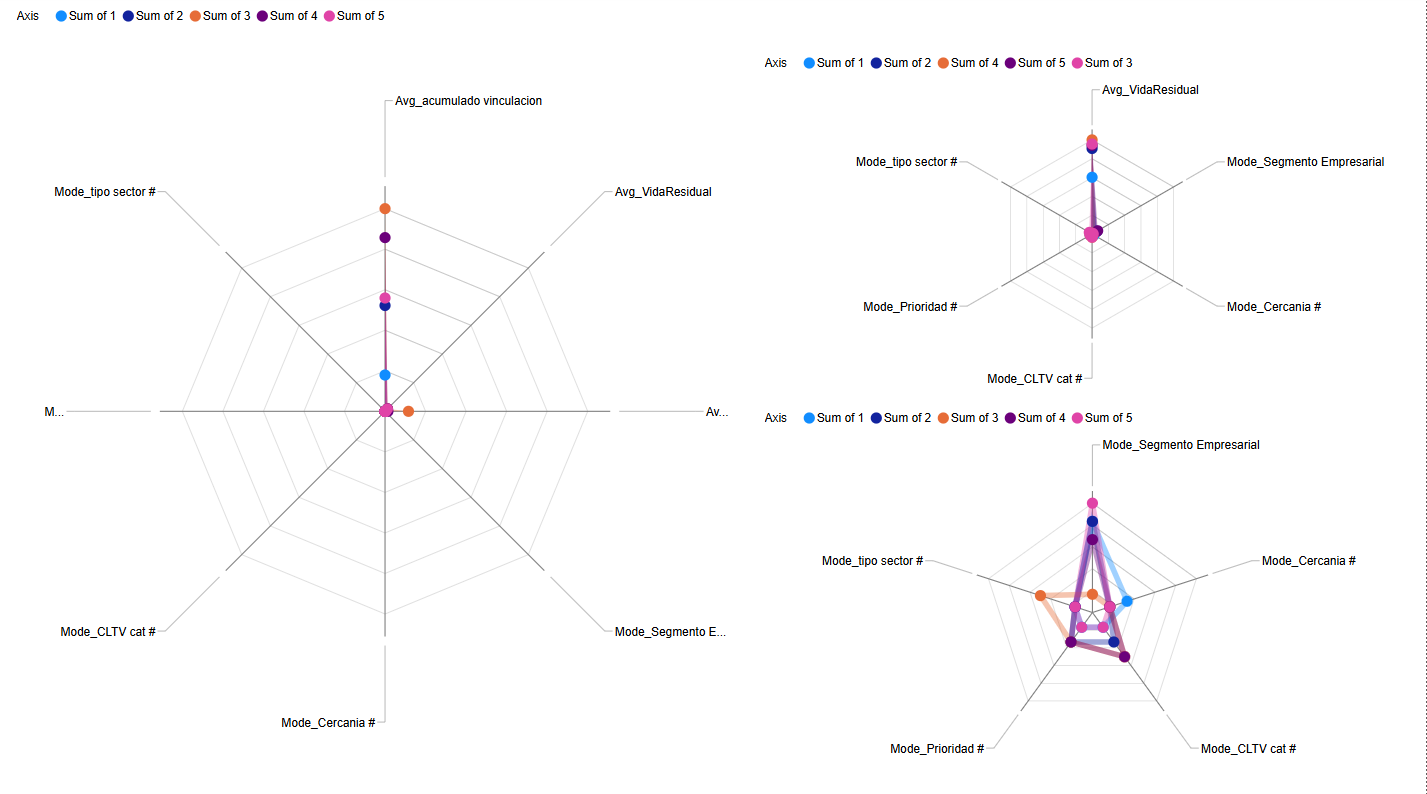

What the dashboard file says about the page in this screenshot:
{"tool":"powerbi","page":{"name":"Page 1","canvas":[1280,720],"ordinal":0},"visuals":[{"type":"RadarChart1446119667547","fields":{"Category":["traspon.clus"],"Y":["Sum(traspon.1)","Sum(traspon.2)","Sum(traspon.3)","Sum(traspon.4)","Sum(traspon.5)"]},"box":[9.7,0,671.6,720.2],"z":0},{"type":"RadarChart1446119667547","fields":{"Category":["Sheet1.clus"],"Y":["Sum(Sheet1.1)","Sum(Sheet1.2)","Sum(Sheet1.4)","Sum(Sheet1.5)","Sum(Sheet1.3)"]},"box":[681.6,42.6,598.1,317.4],"z":1},{"type":"RadarChart1446119667547","fields":{"Category":["Sheet2.clus"],"Y":["Sum(Sheet2.1)","Sum(Sheet2.2)","Sum(Sheet2.3)","Sum(Sheet2.4)","Sum(Sheet2.5)"]},"box":[681.3,360.6,598.7,359.6],"z":2}]}

Visuals, with their boxes in screenshot pixels (x1, y1, x2, y2), scaled from the page's 1280x720 canvas onto the 1427x794 screenshot:
RadarChart1446119667547 - traspon.clus x Sum(traspon.1): rect(11, 0, 760, 793)
RadarChart1446119667547 - Sheet1.clus x Sum(Sheet1.1): rect(760, 47, 1426, 397)
RadarChart1446119667547 - Sheet2.clus x Sum(Sheet2.1): rect(760, 398, 1426, 793)
